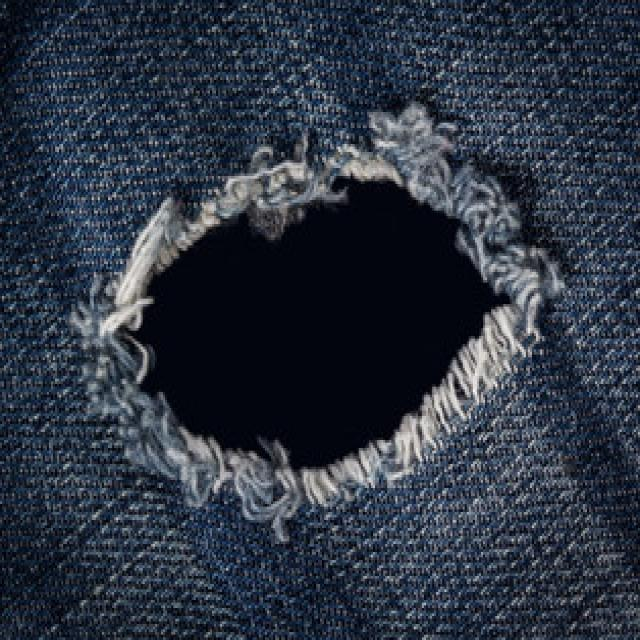Hole: (77, 103, 563, 542)
